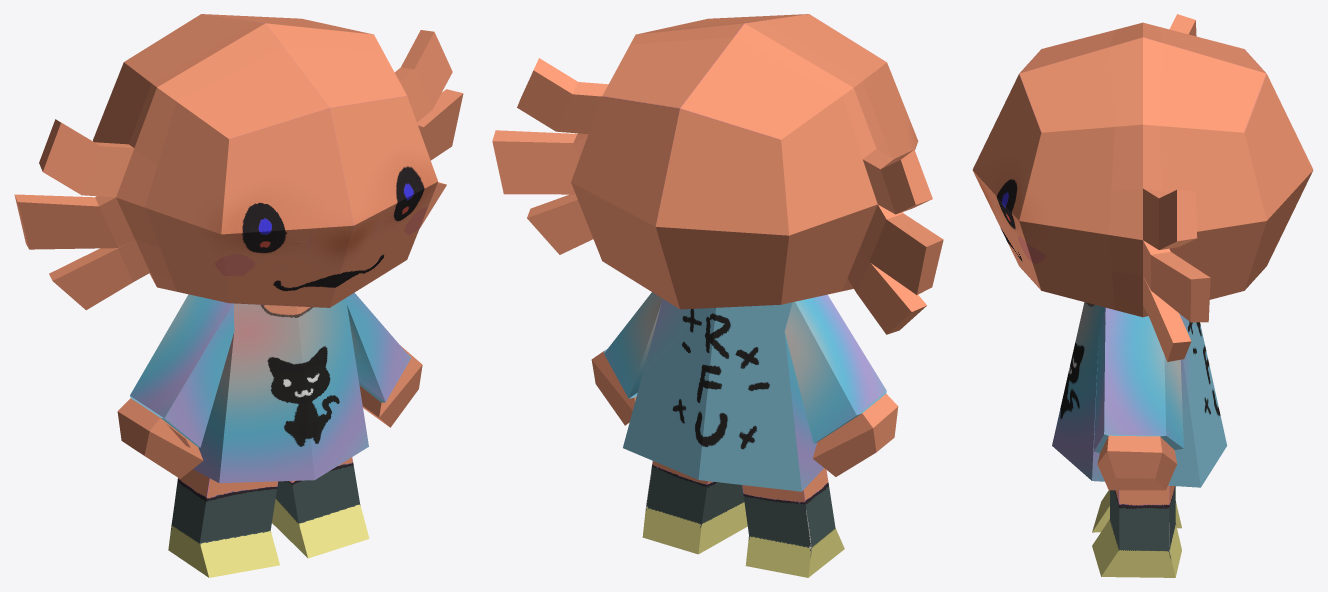
The model's file is npc1 1.fbx.
3 views of the same model, side by side, from view 1: azimuth 30°, elevation 25°; view 2: azimuth 150°, elevation 25°; view 3: azimuth 270°, elevation 25° (orthographic). The views are drawn at different scales.
Parts seen in each view (by area): view 1: axel head.001, body.001; view 2: axel head.001, body.001; view 3: axel head.001, body.001.
Part boxes in pixels (x1,y1,x2,y2): axel head.001: (14, 14, 463, 310); body.001: (117, 292, 422, 577); axel head.001: (492, 14, 943, 334); body.001: (591, 292, 898, 577); axel head.001: (972, 14, 1313, 361); body.001: (1052, 302, 1227, 577).
Size of the model in its own units: 299 by 205 by 333.
2 materials, 2 textured.
